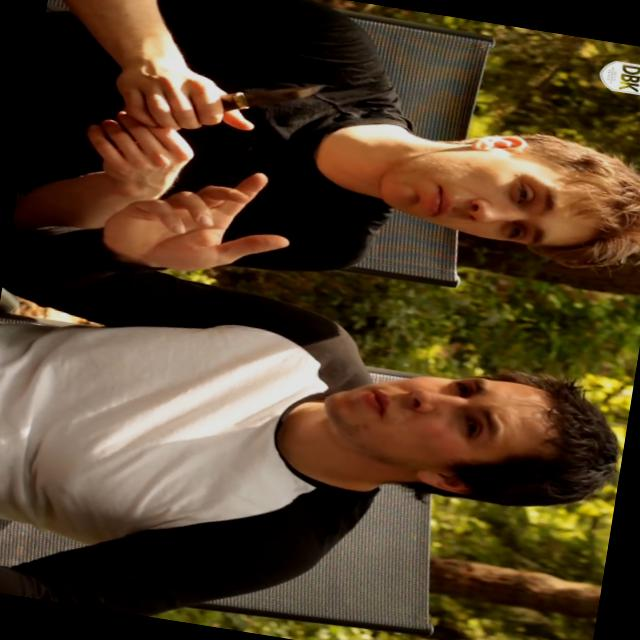knife: (150, 44, 358, 158)
